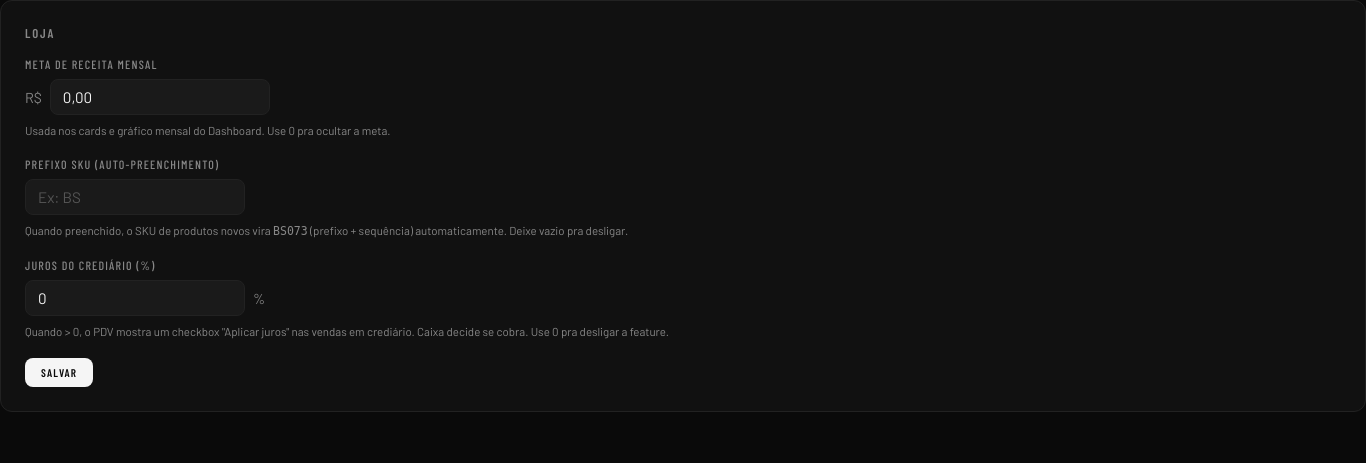
Test case: StoreSettingsSection › rejeita juros > 100 com erro inline
This screenshot has width=1366, height=463.
Step 1. Type "150" into the field with test id "crediario-juros-input" → (135,298), box [25, 280, 245, 316]
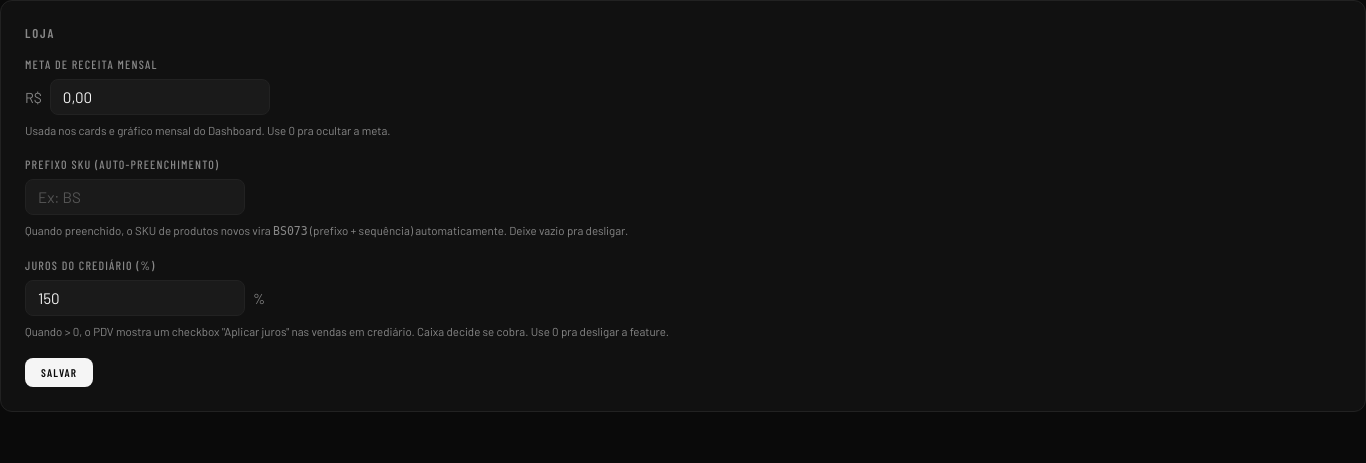
Step 2. Click the button with test id "store-settings-save" → (59,372), box [25, 358, 93, 387]
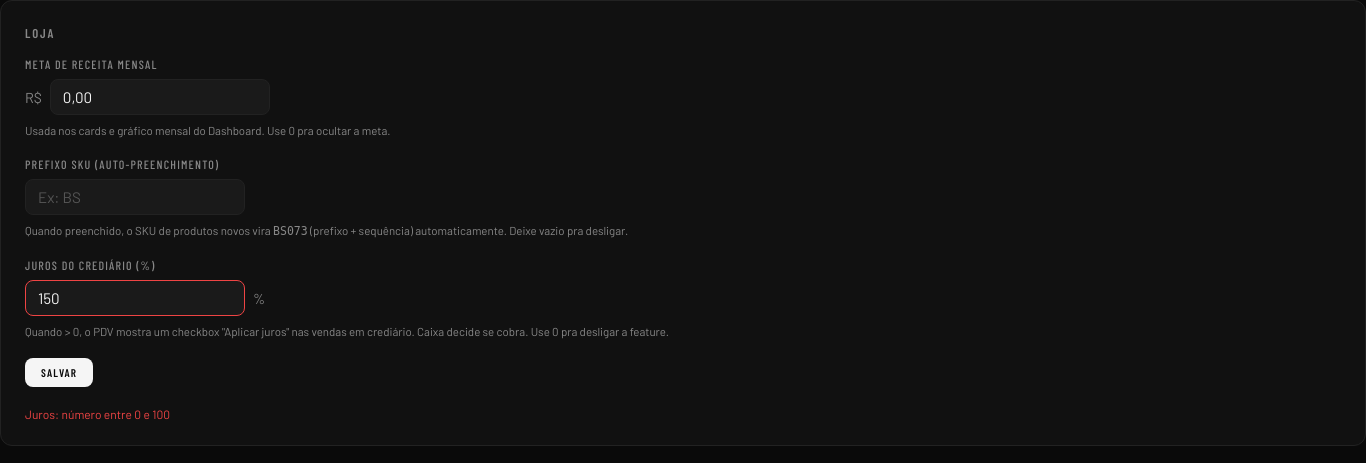
Check: the text "Juros: número entre 0 e 100" is shown, box [25, 407, 170, 421]
